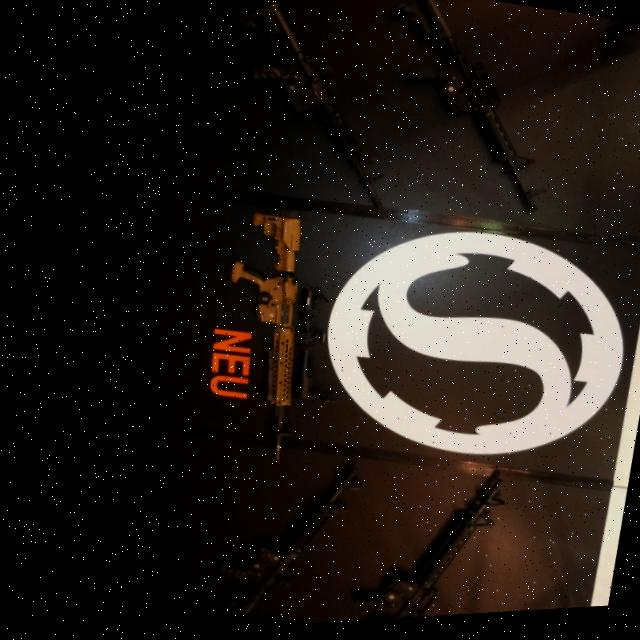firearm: (354, 0, 580, 230), (184, 198, 371, 475), (203, 0, 418, 225), (191, 446, 361, 632), (320, 455, 503, 626)
